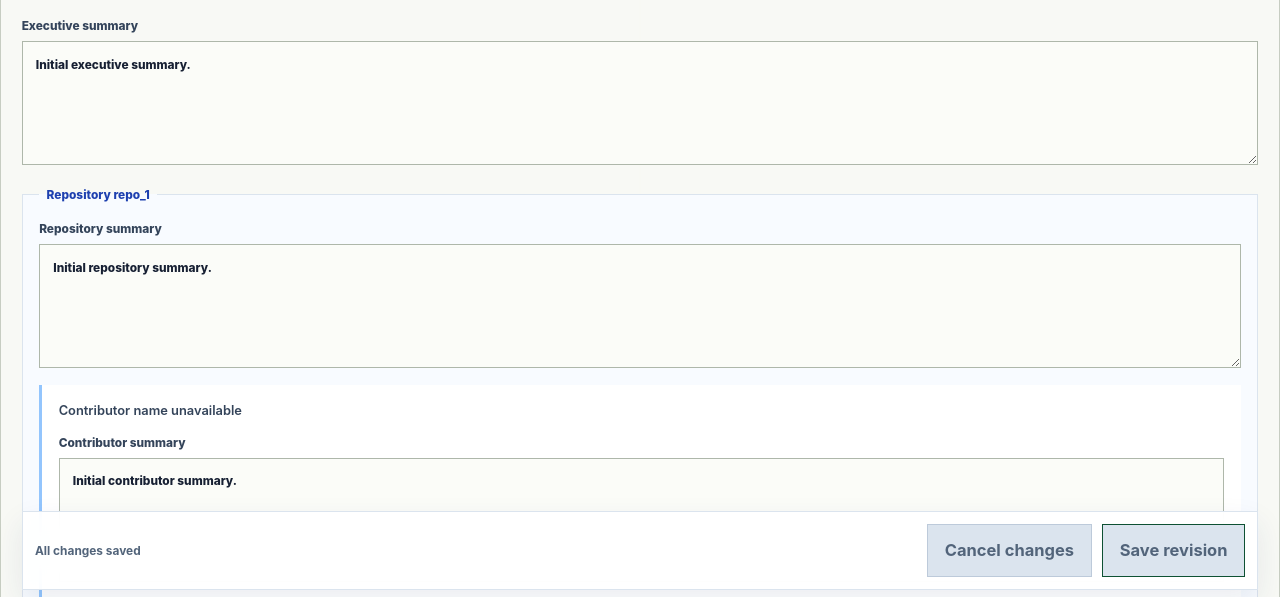
Test: Day 9 structured report editor › keeps edits made after save submission dirty when the canonical response arrives
Replace the text in the text box labelled "Executive summary" with "Submitted summary." at (640, 103), box [22,41,1258,165]
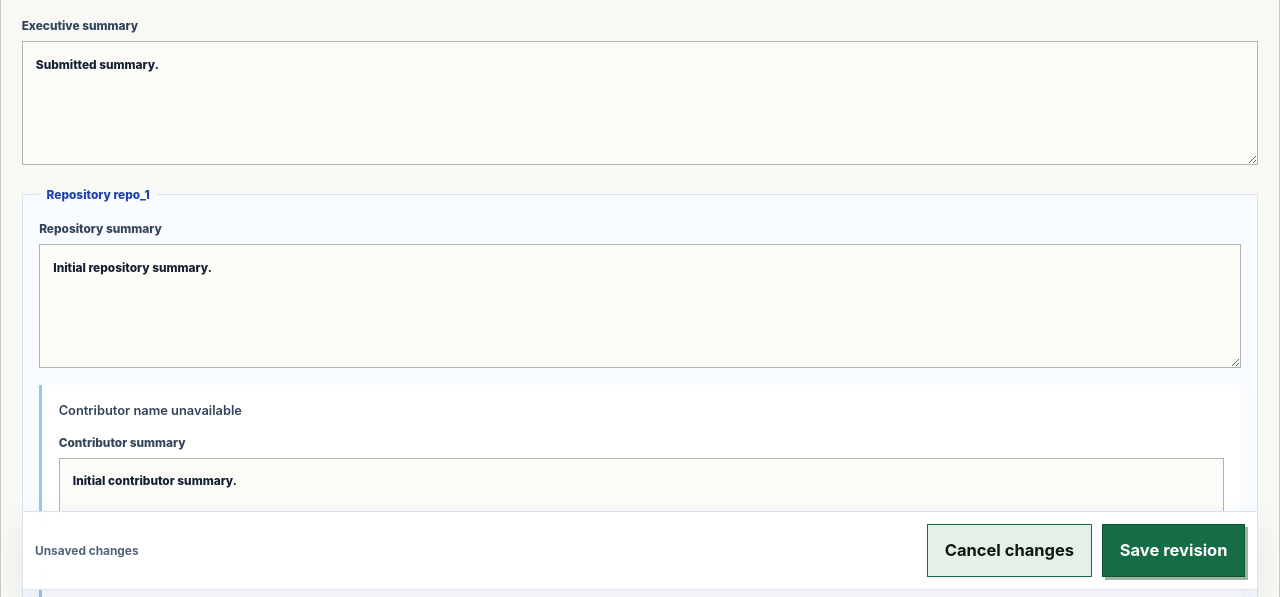
Click the button "Save revision" at (1174, 550), box [1102,524,1245,576]
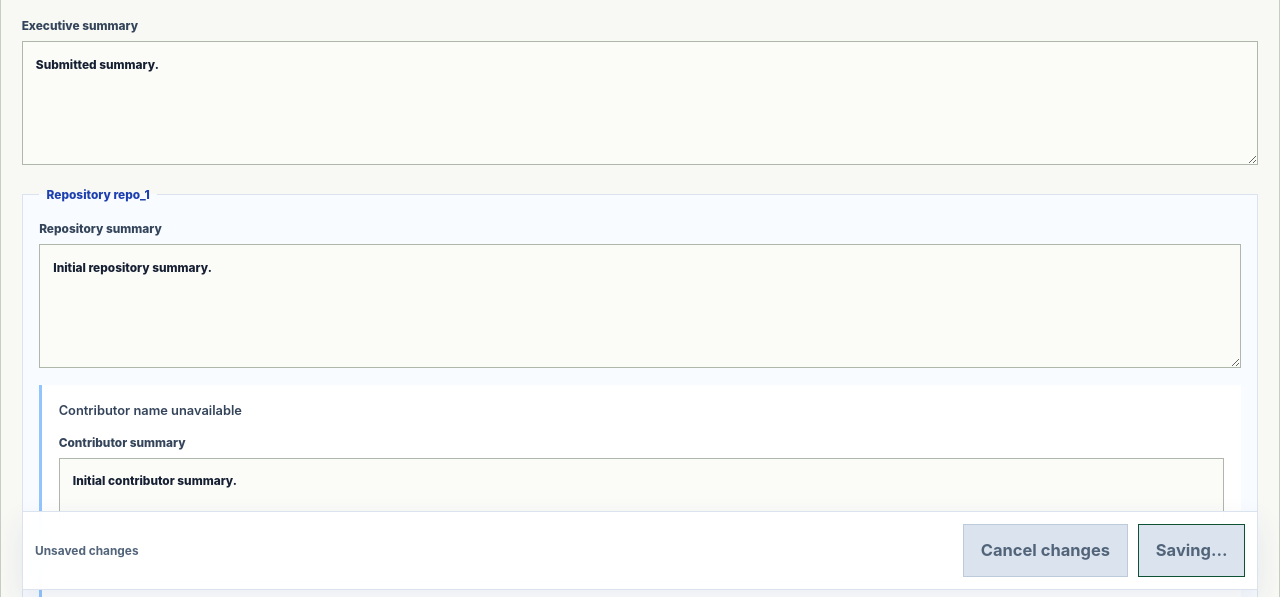
Replace the text in the text box named "Repository repo_1 summary" with "Typed while saving." at (640, 306), box [39,244,1241,368]
(page scrolled)
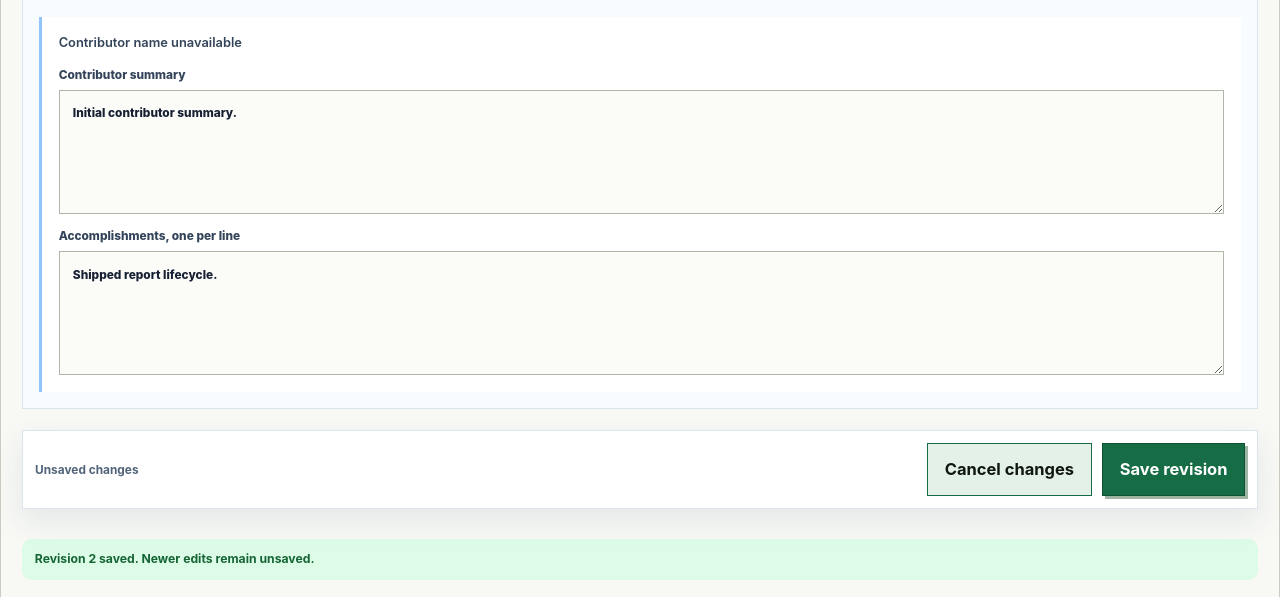
Expected: the text "Unsaved changes" is shown, [35,460,139,478]
Expected: the message reads "Revision 2 saved. Newer edits remain unsaved.", [35,551,314,566]
